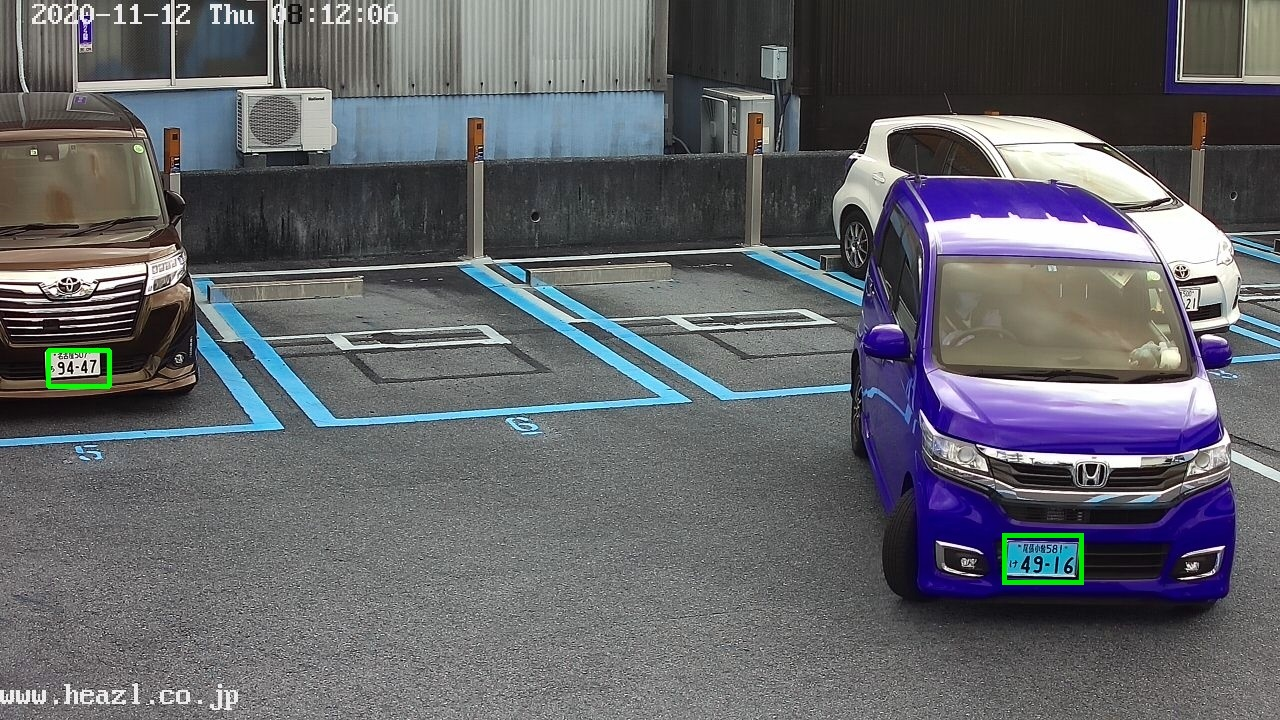number_plate: (1006, 539, 1079, 580), (42, 348, 103, 375), (1177, 286, 1203, 314)
